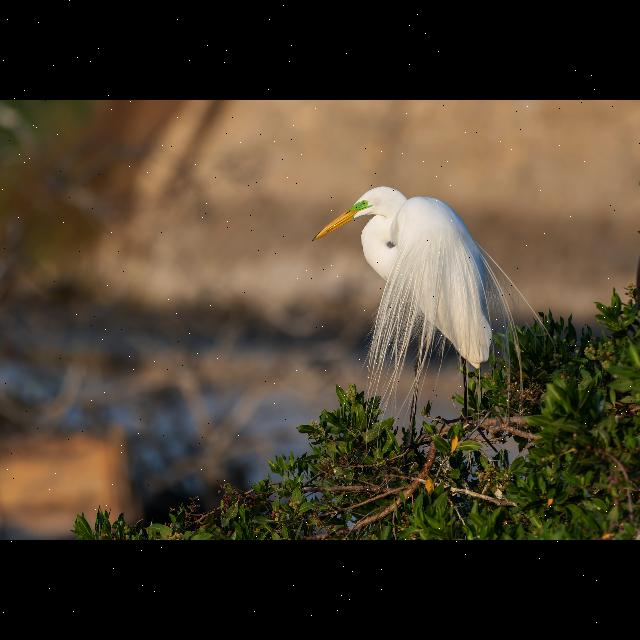egret: (308, 180, 526, 434)
